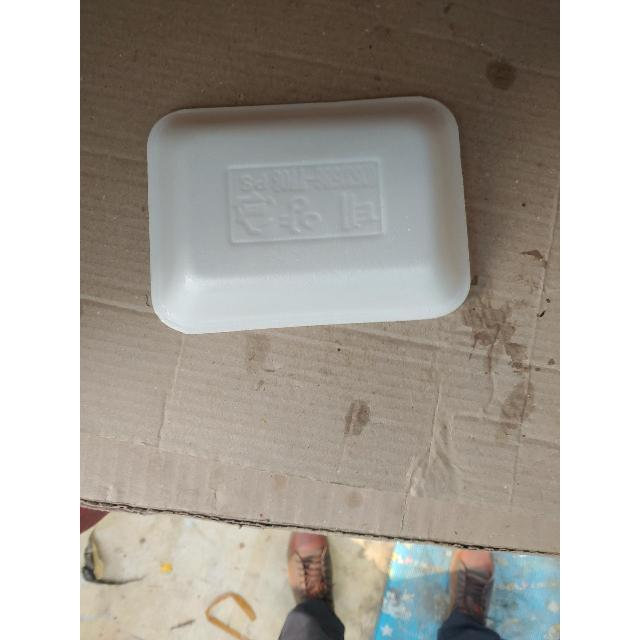Recipiente plastico: (148, 96, 470, 334)
